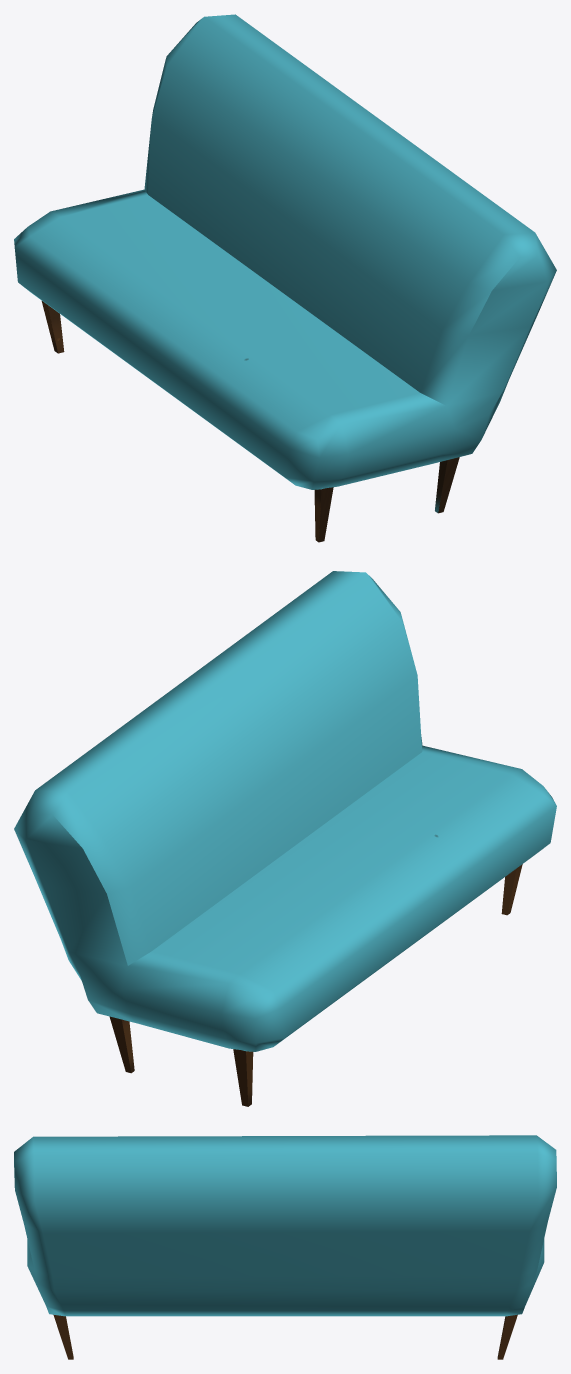
File: couch_Blue.fbx
3 views of the same model, one above another, from view 1: azimuth 30°, elevation 25°; view 2: azimuth 150°, elevation 25°; view 3: azimuth 270°, elevation 25° (orthographic). The views are drawn at different scales.
Parts seen in each view (by area): view 1: couch; view 2: couch; view 3: couch.
Boxes of the visible parts, left/top/right/bottom form: couch: left=14, top=14, right=556, bottom=542; couch: left=14, top=571, right=556, bottom=1106; couch: left=14, top=1135, right=556, bottom=1359.
Bounding box in the file's own units: 4.79 × 5.05 × 10.36.
1 material, 1 textured.
